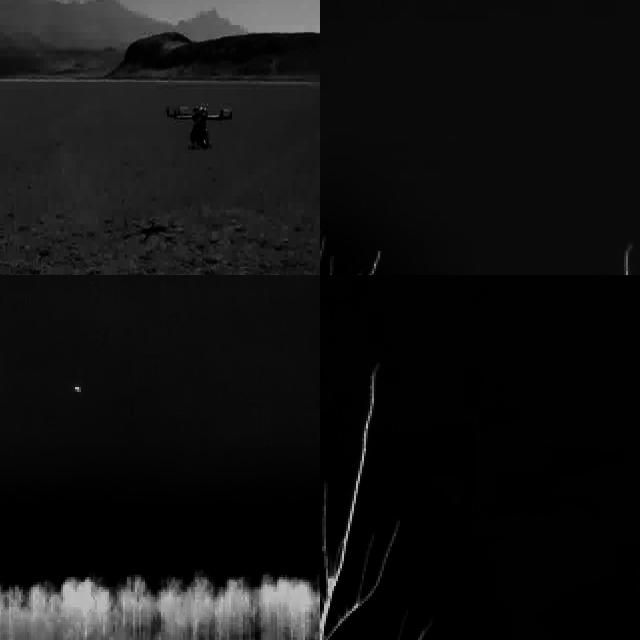0: (538, 434, 558, 456)
1: (69, 378, 95, 406)
drone: (163, 103, 233, 151)
